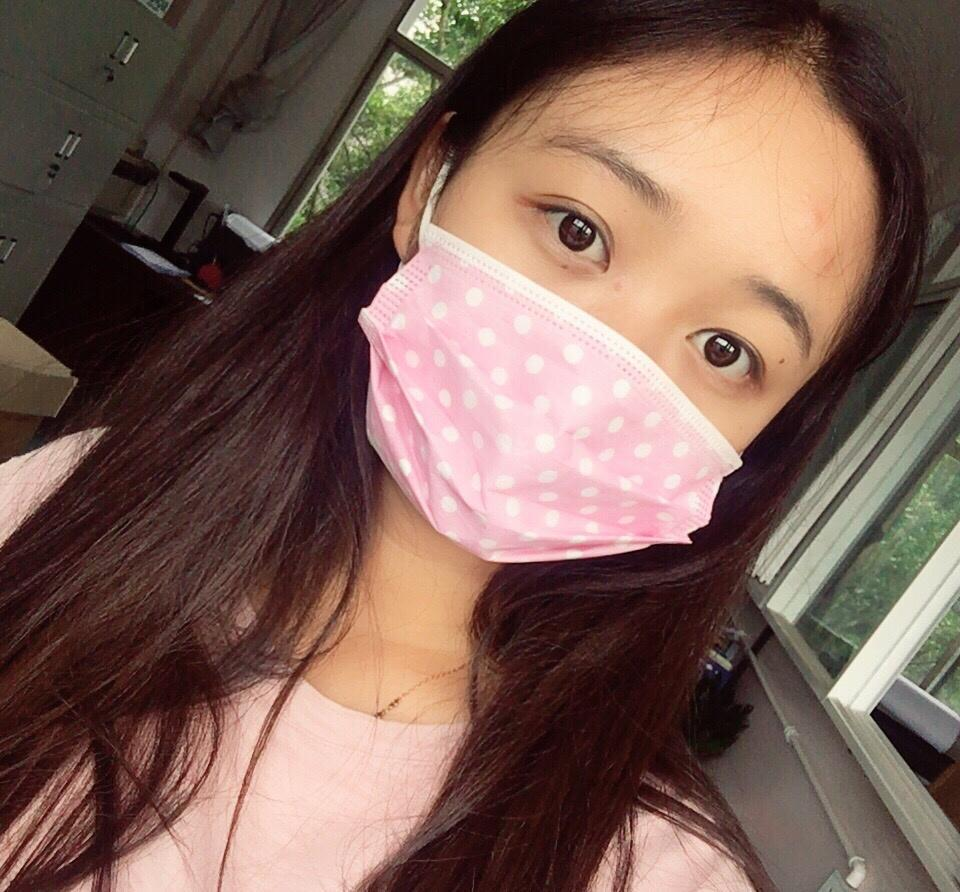OK: (377, 108, 833, 564)
